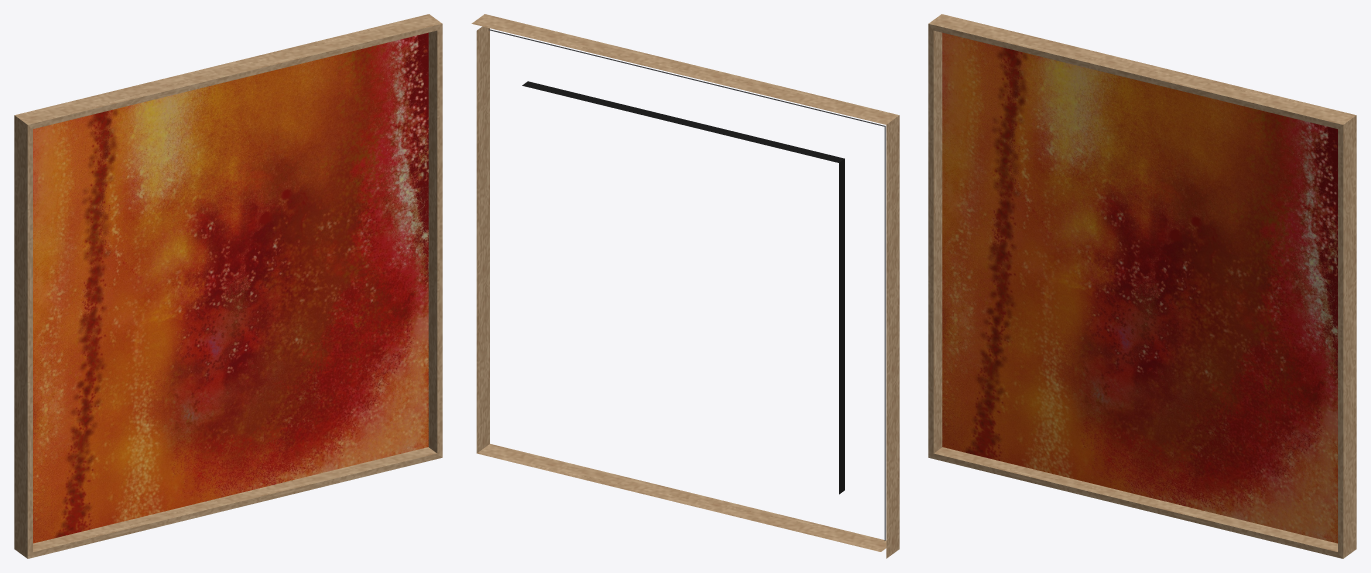
File: va294_moyen_caisse-chene.glb
3 renders of one model, left to right at view 1: azimuth 30°, elevation 25°; view 2: azimuth 150°, elevation 25°; view 3: azimuth 330°, elevation 25°, orthographic.
Parts seen in each view (by area): view 1: va294_moyen_caisse-chene; view 2: va294_moyen_caisse-chene; view 3: va294_moyen_caisse-chene.
Boxes of the visible parts, box(x1,y1,x2,y2) form: va294_moyen_caisse-chene: box(14, 14, 442, 558); va294_moyen_caisse-chene: box(471, 14, 899, 558); va294_moyen_caisse-chene: box(928, 14, 1356, 558).
Size of the model in its own units: 0.628 by 0.628 by 0.035.
4 materials, 2 textured.
